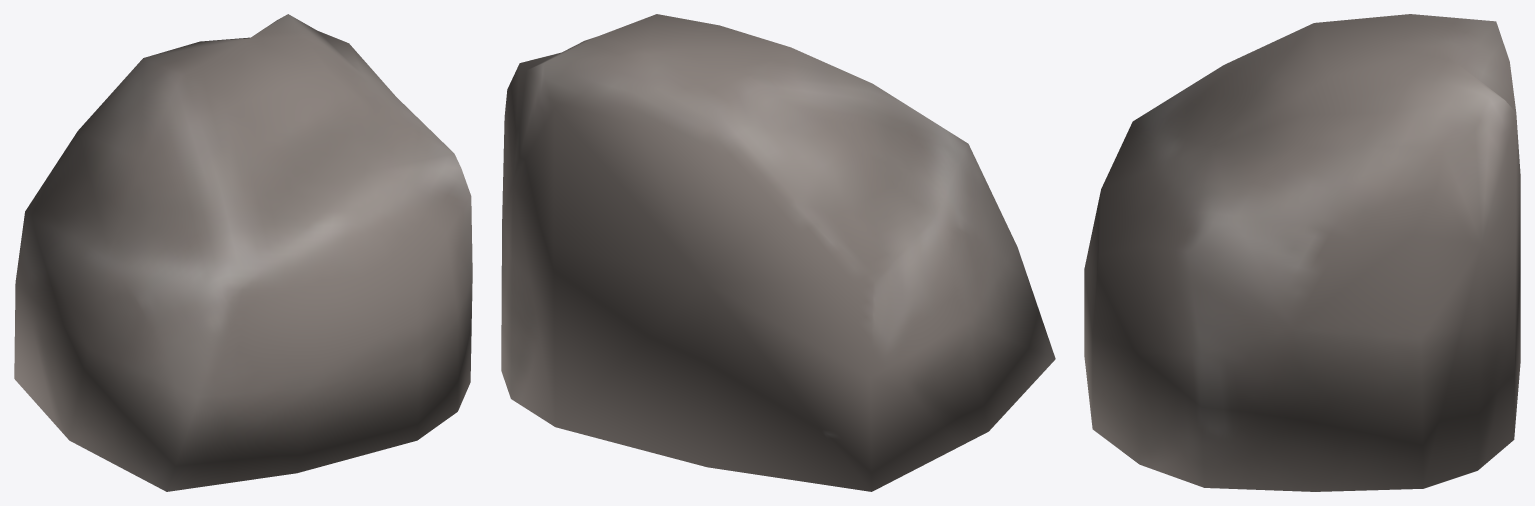
File: rock.fbx
3 views of the same model, side by side, from view 1: azimuth 30°, elevation 25°; view 2: azimuth 150°, elevation 25°; view 3: azimuth 270°, elevation 25° (orthographic). The views are drawn at different scales.
Parts seen in each view (by area): view 1: Rock'; view 2: Rock'; view 3: Rock'.
Boxes of the visible parts, x1,y1,x2,y2 form: Rock': (14, 14, 472, 491); Rock': (501, 14, 1055, 491); Rock': (1084, 14, 1520, 491).
Bounding box in the file's own units: 105 × 82.51 × 89.2.
